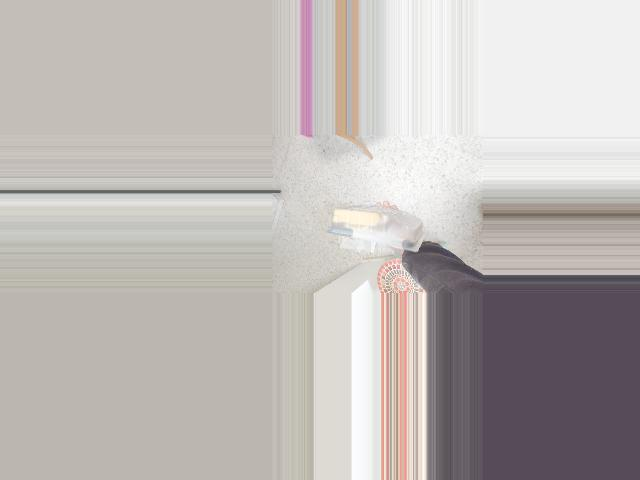cheese: (329, 204, 427, 255)
